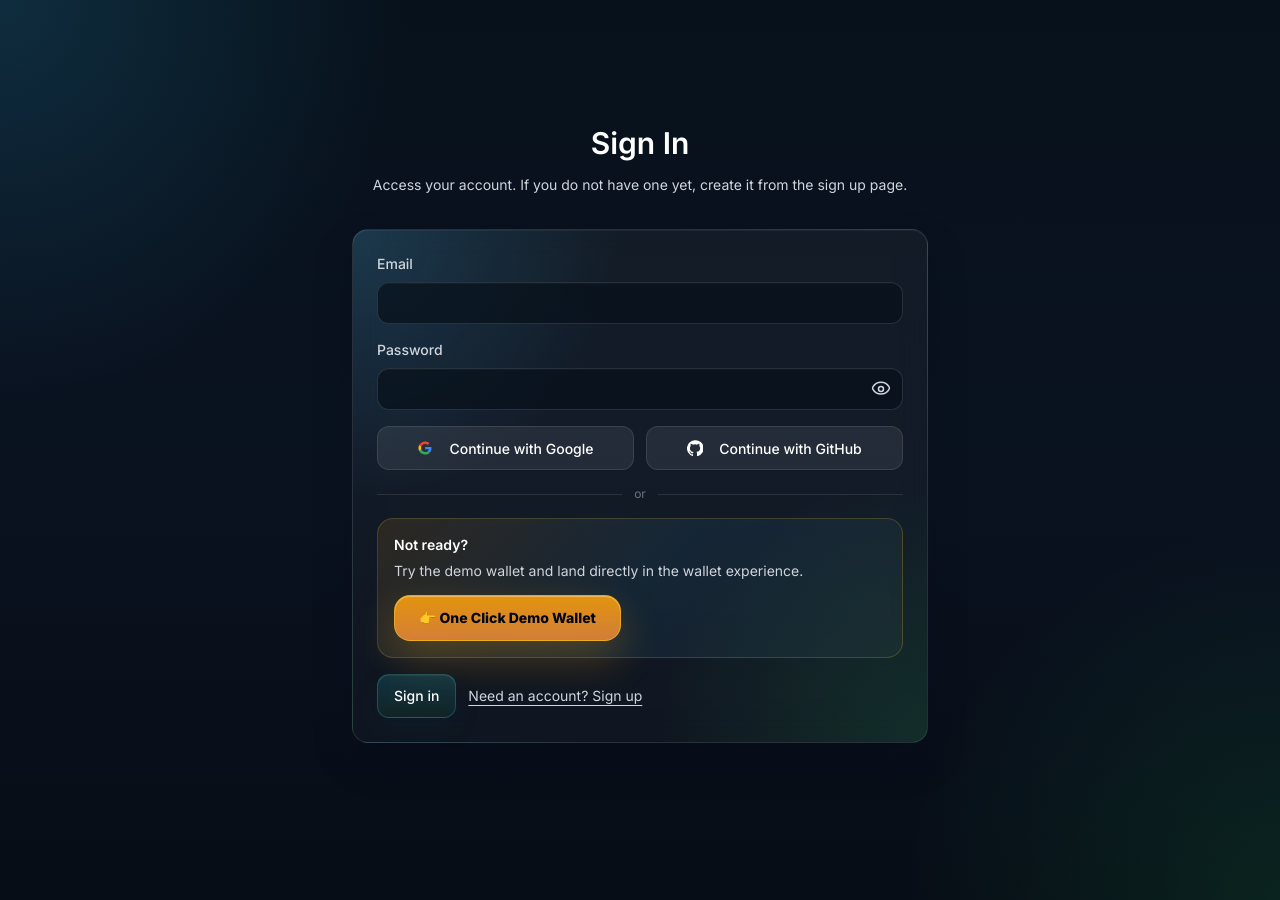
Test: SignInPage (functional) › validates required login form fields
Click the button "Sign in". click: (417, 696)
box: [377, 674, 456, 718]
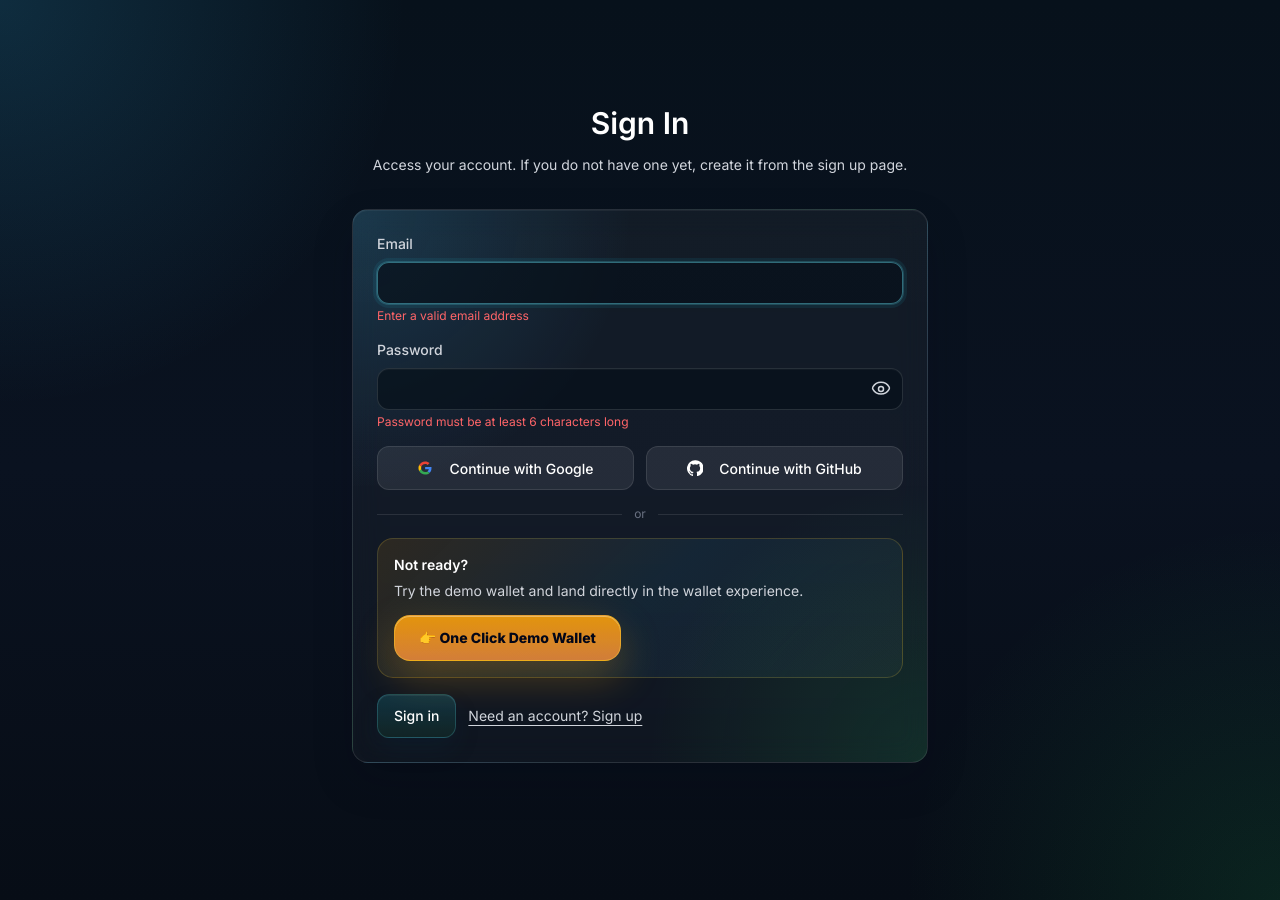
Expected: the text "Enter a valid email address" is shown, [377, 308, 529, 323]
Expected: the text "Password must be at least 6 characters long" is shown, [377, 414, 628, 429]
